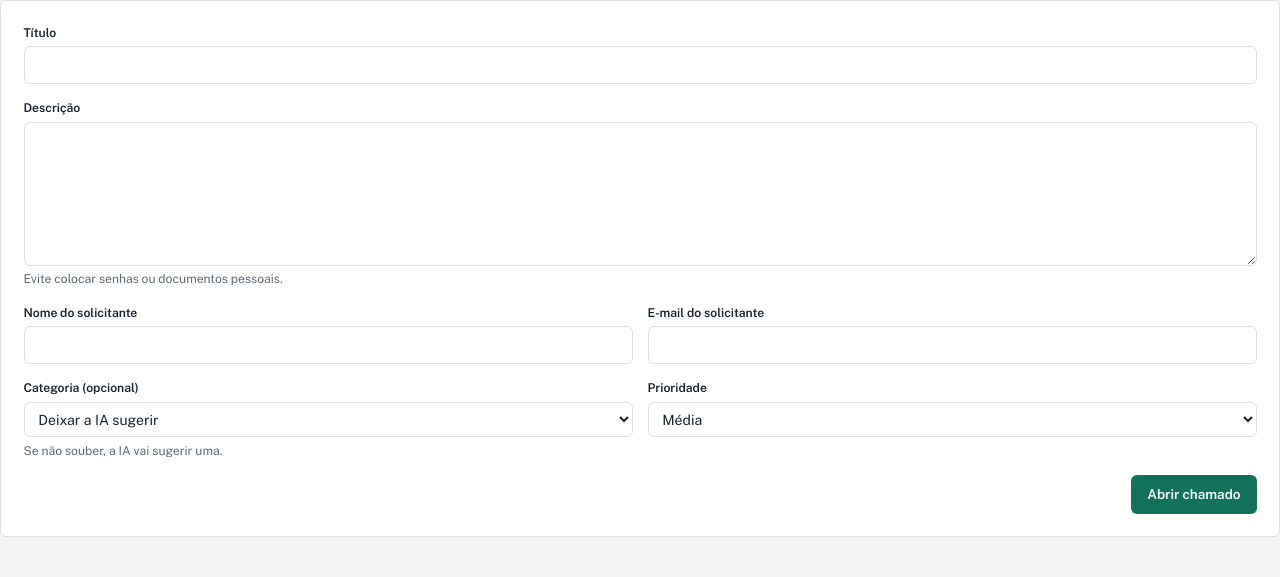
ChamadoForm › rejeita e-mail em formato inválido
Type "Erro ao gerar boleto" into the field labelled "Título". click: (640, 65)
box: [24, 46, 1256, 84]
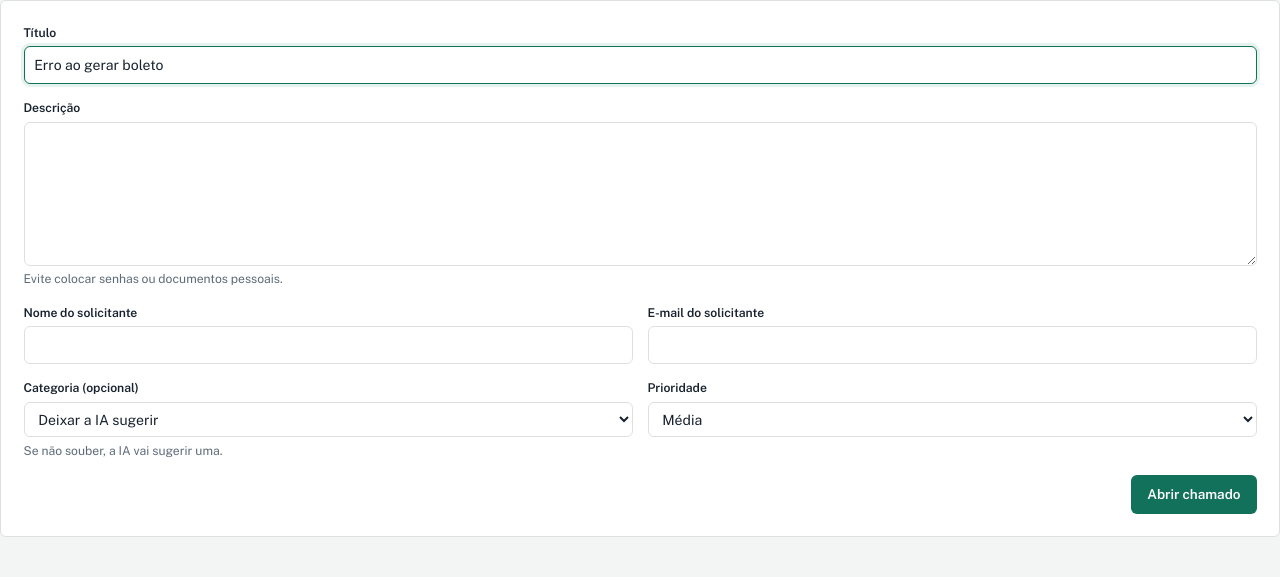
Type "O boleto sai com valor errado desde ontem." into the text box labelled "Descrição". click: (640, 194)
box: [24, 122, 1256, 266]
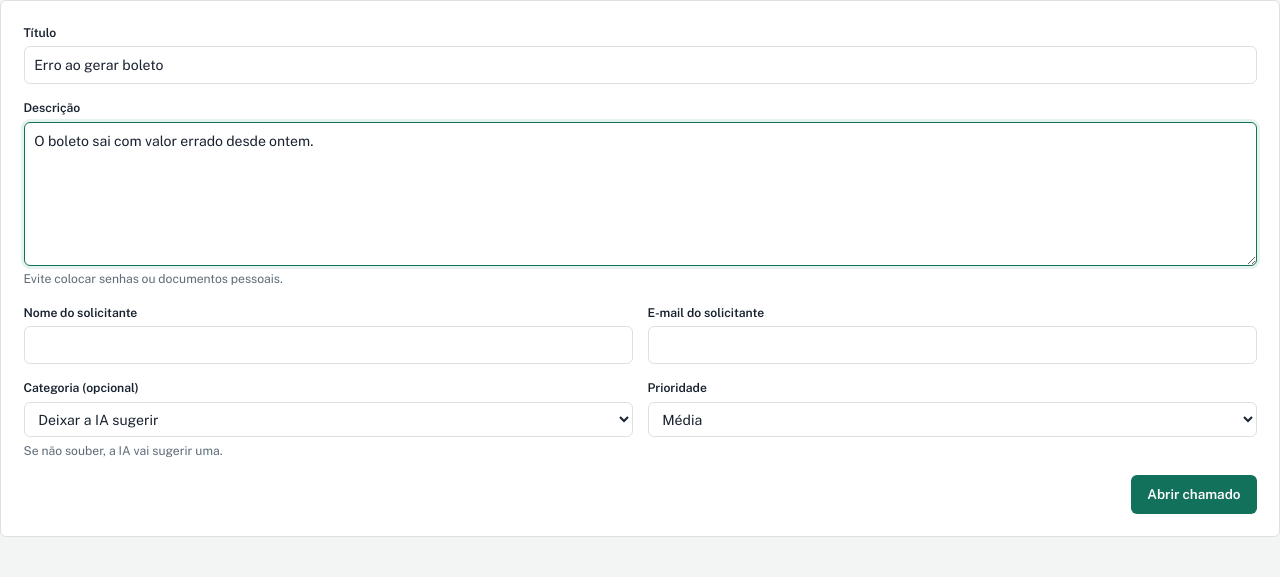
Type "Maria" into the field labelled "Nome do solicitante". click: (328, 345)
box: [24, 326, 632, 364]
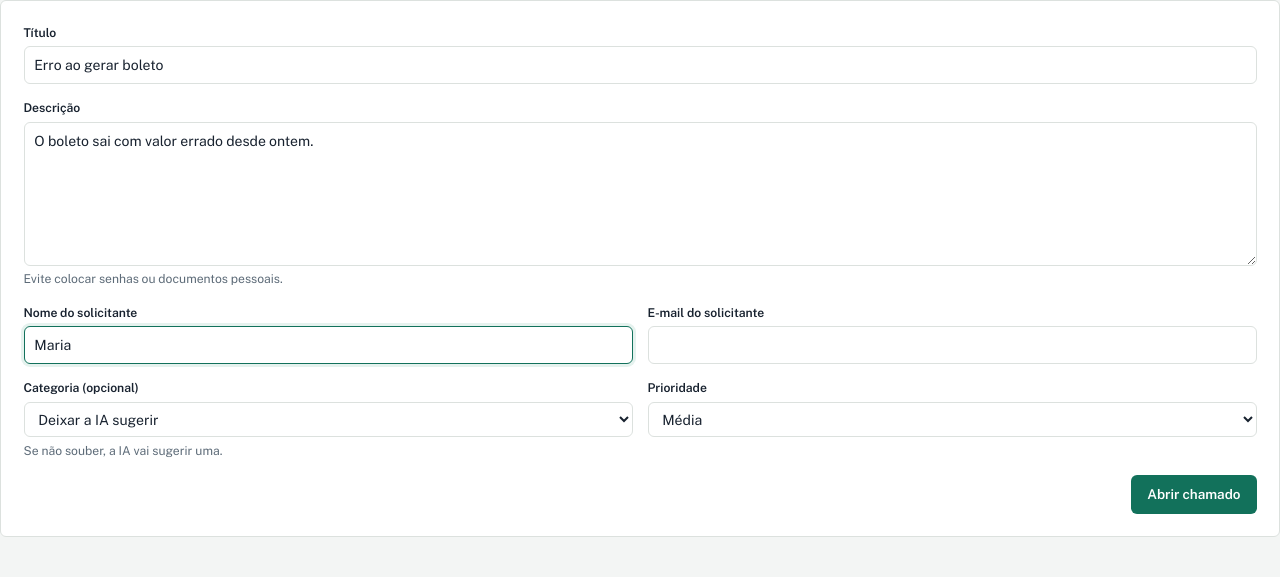
Type "maria@semdominio" into the field labelled "E-mail do solicitante". click: (952, 345)
box: [648, 326, 1256, 364]
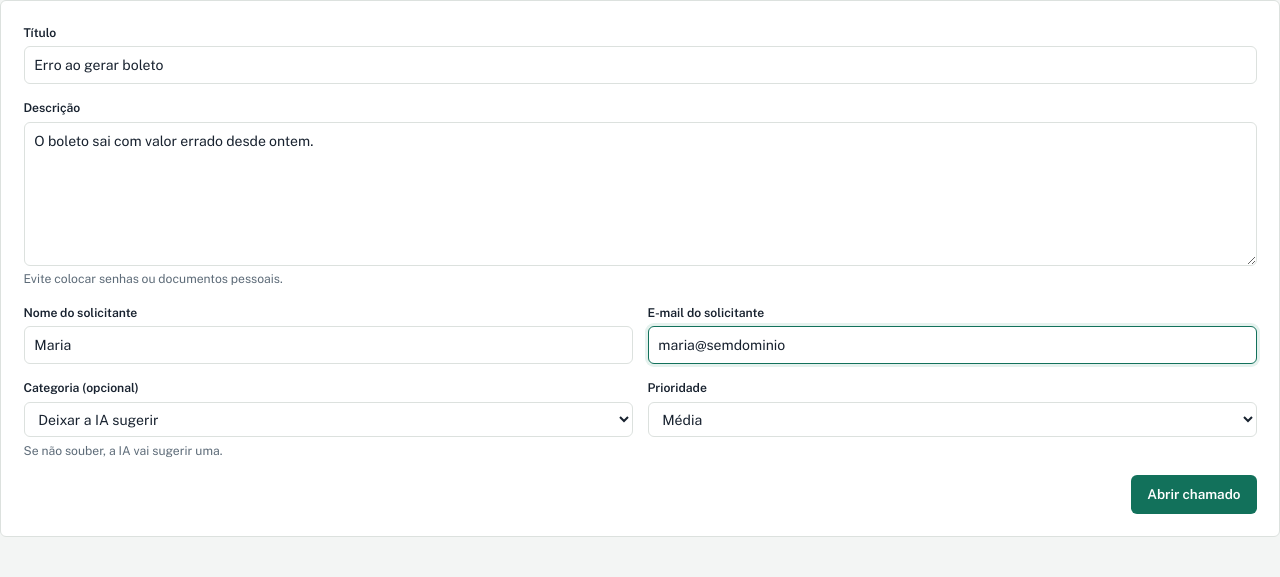
Click the button "Abrir chamado". click: (1194, 494)
box: [1131, 475, 1256, 514]
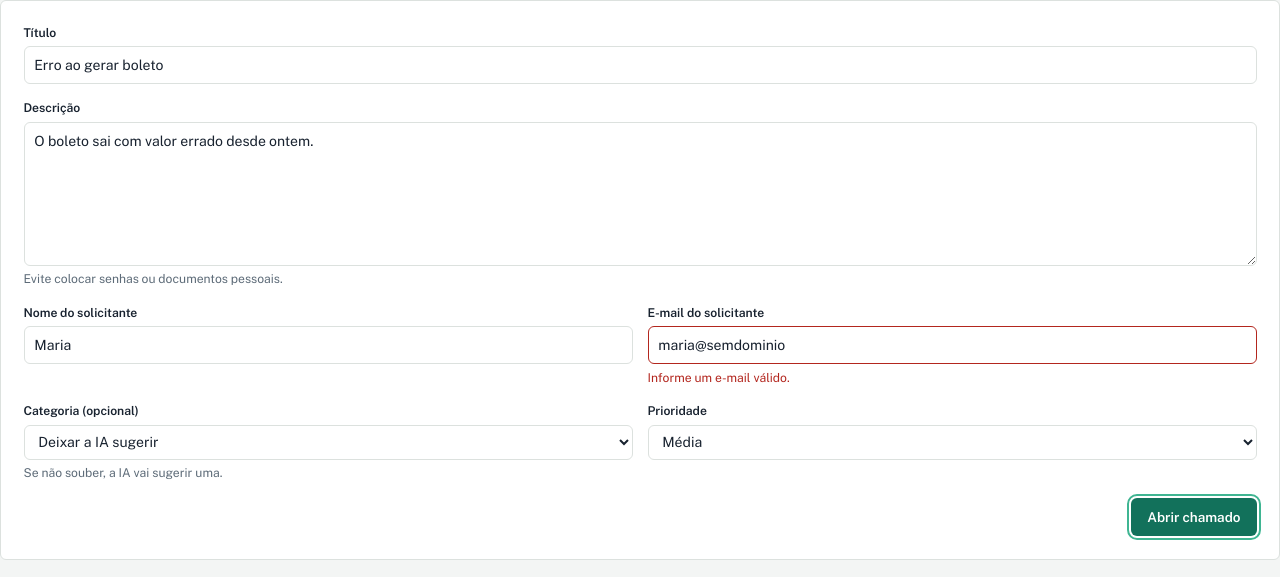
Check: the text "Informe um e-mail válido." is shown, box [648, 370, 790, 385]
